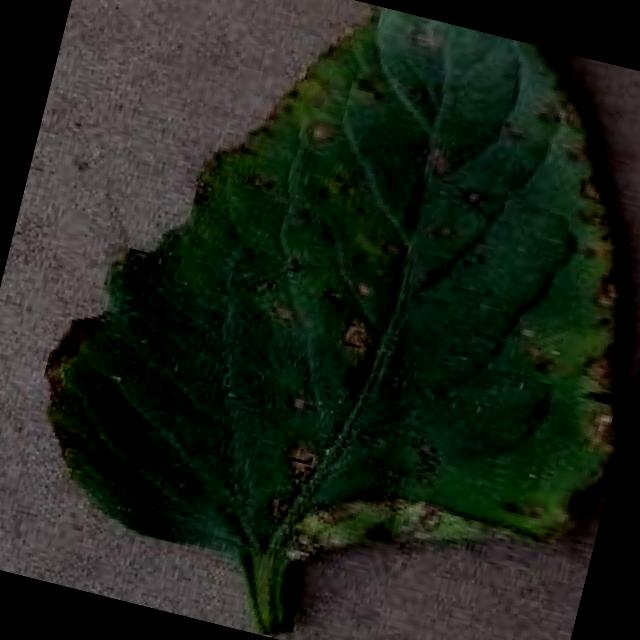bacterial spot: (47, 3, 624, 634)
